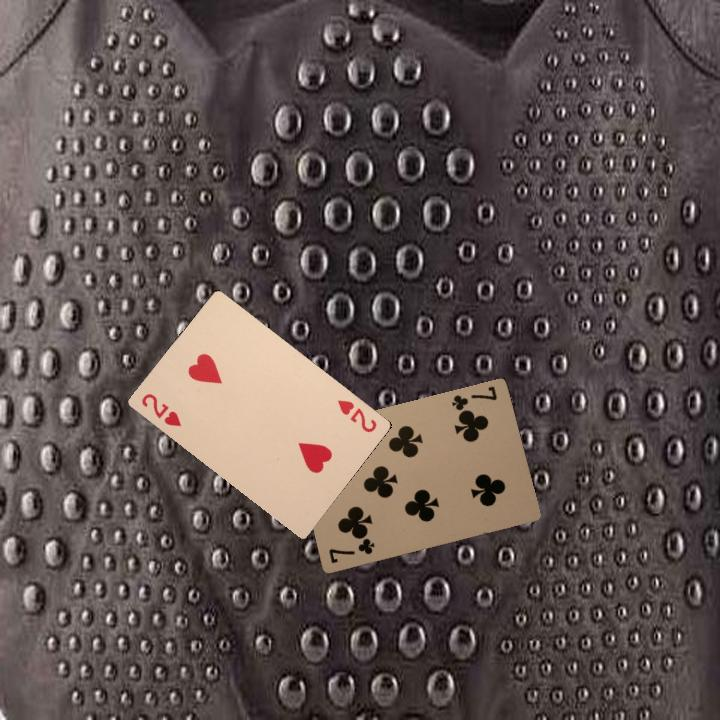2h: (137, 389, 184, 429), (333, 396, 379, 435)
7c: (447, 382, 500, 418), (325, 533, 377, 566)
